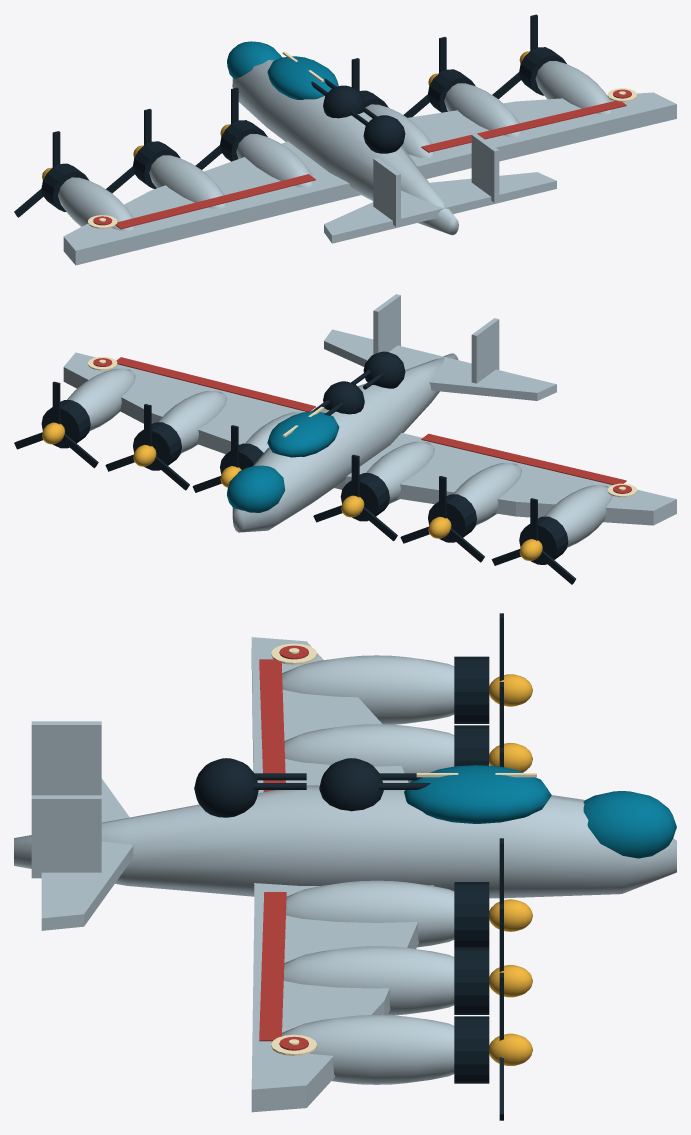
File: boss-final.glb
3 views of the same model, one above another, from view 1: azimuth 30°, elevation 25°; view 2: azimuth 150°, elevation 25°; view 3: azimuth 270°, elevation 25° (orthographic). The views are drawn at different scales.
Visible parts, largest first — view 1: boss-final-airframe; view 2: boss-final-airframe; view 3: boss-final-airframe.
Boxes of the visible parts, <box> form: boss-final-airframe: <box>41,41,676,265</box>; boss-final-airframe: <box>41,294,676,564</box>; boss-final-airframe: <box>14,637,676,1112</box>.
Bounding box in the file's own units: 4.28 × 0.6694 × 2.65.
